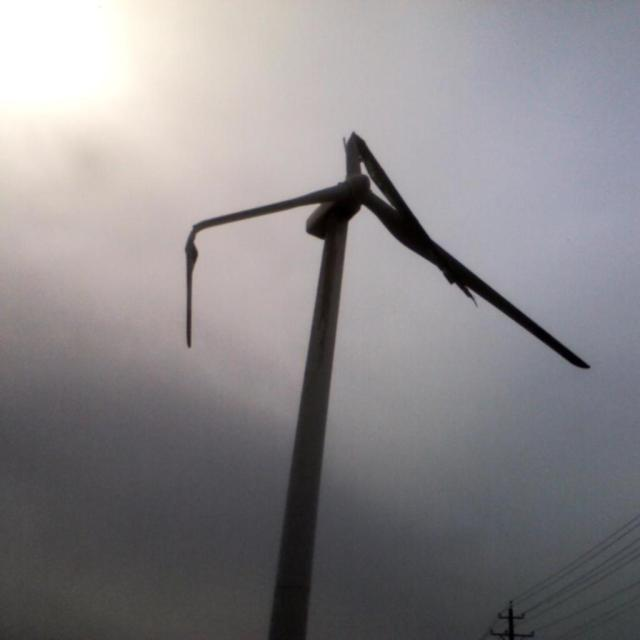crack: (337, 125, 479, 304), (175, 219, 222, 354)
